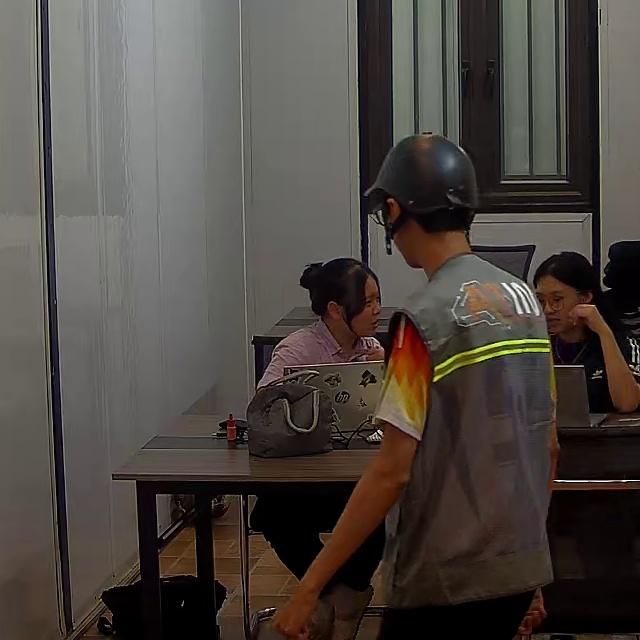helmet: (364, 132, 479, 260)
no_helmet: (299, 257, 376, 318), (533, 250, 597, 295)
none: (255, 320, 379, 390), (555, 322, 640, 413)
vest: (373, 255, 555, 610)
